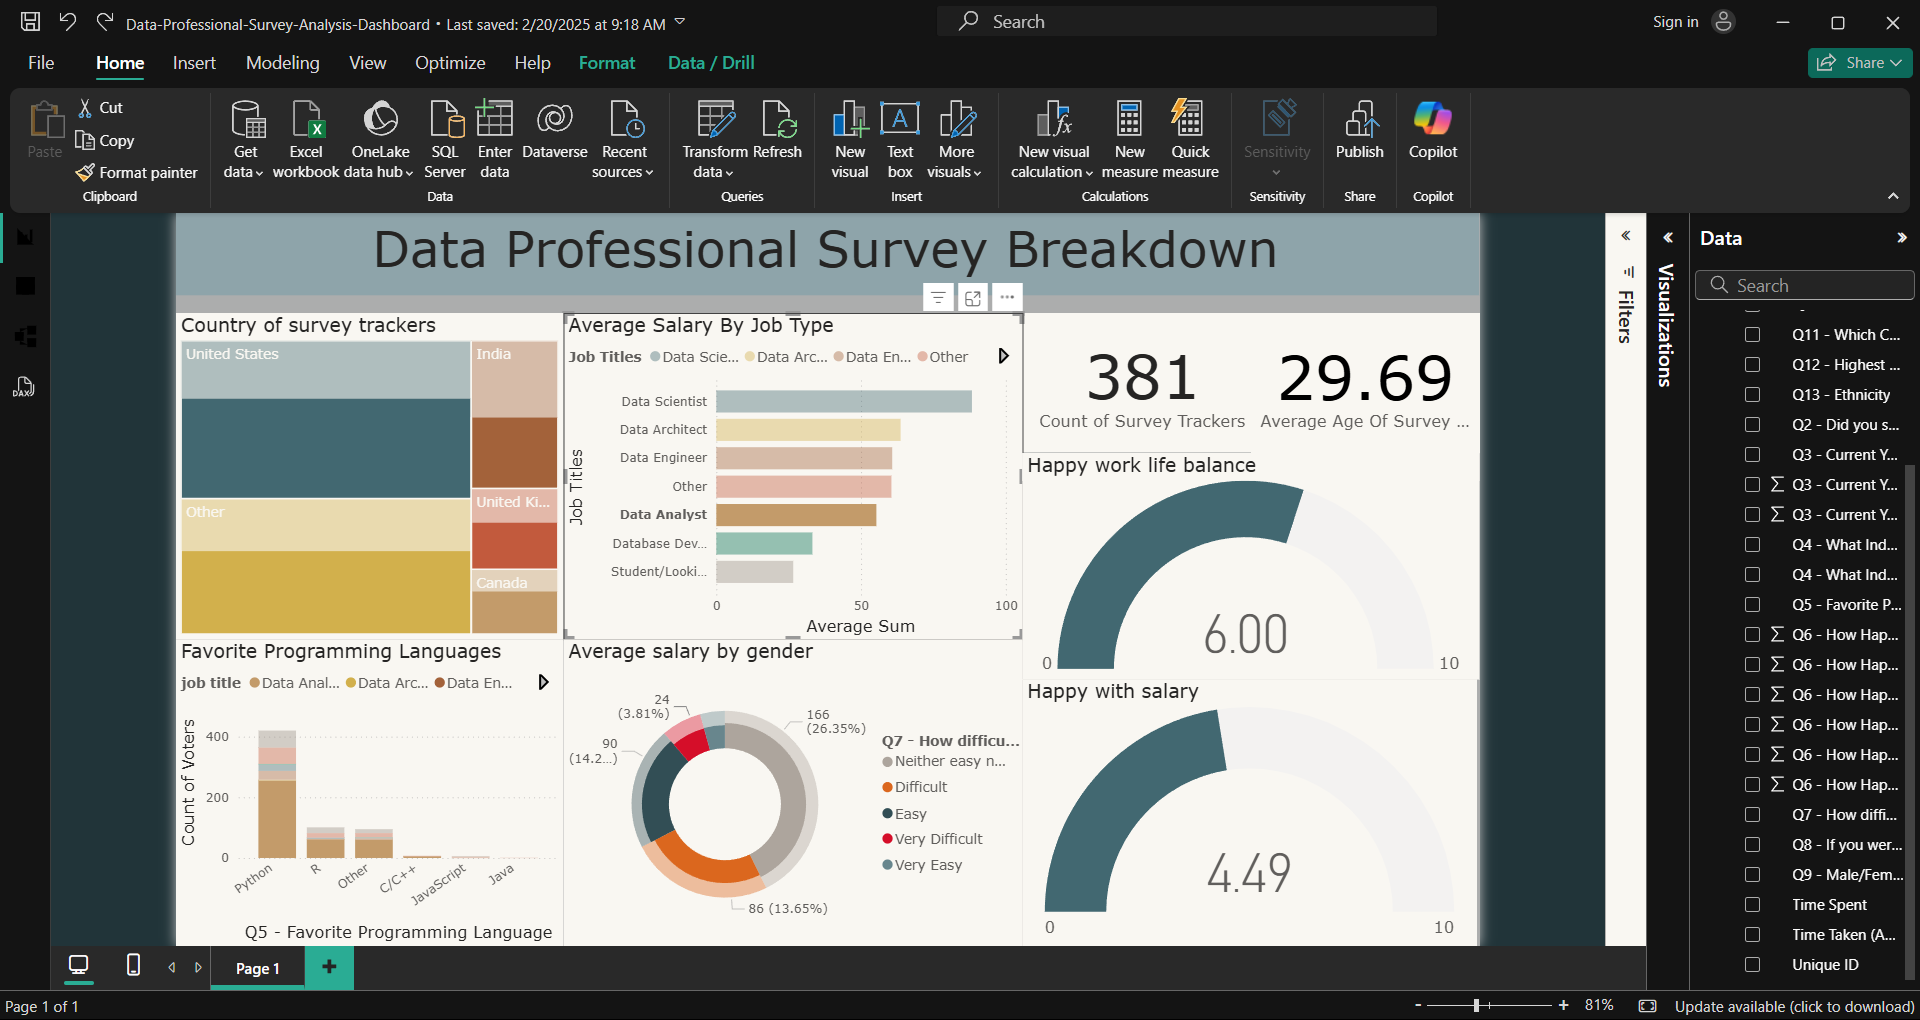

This screenshot's page, from the dashboard's own definition file:
{"tool":"powerbi","page":{"name":"Page 1","canvas":[1280,720],"ordinal":0},"visuals":[{"type":"textbox","box":[0,0,1279.4,80.5],"z":0},{"type":"card","fields":{"Values":["CountNonNull(Data Professional Survey.Unique ID)"]},"box":[831,98.3,236.4,136.8],"z":1000},{"type":"card","fields":{"Values":["Avg(Data Professional Survey.Q10 - Current Age)"]},"box":[1055.2,98.2,224.5,137.4],"z":2000},{"type":"barChart","title":"Average Salary By Job Type","fields":{"Category":["Data Professional Survey.Q1 - Which Title Best Fits your Current Role?.1"],"Y":["Avg(Data Professional Survey.Average Salary)"],"Series":["Data Professional Survey.Q1 - Which Title Best Fits your Current Role?.1"]},"box":[380.8,98.4,451.3,320.9],"z":3000},{"type":"columnChart","title":"Favorite Programming Languages","fields":{"Category":["Data Professional Survey.Q5 - Favorite Programming Language.1"],"Y":["CountNonNull(Data Professional Survey.Unique ID)"],"Series":["Data Professional Survey.Q1 - Which Title Best Fits your Current Role?.1"]},"box":[0,418.4,380.4,301.8],"z":4000},{"type":"treemap","title":"Country of survey trackers","fields":{"Group":["Data Professional Survey.Q11 - Which Country do you live in?.1"],"Values":["CountNonNull(Data Professional Survey.Q11 - Which Country do you live in?.1)"]},"box":[0,97.6,380.2,320.3],"z":5000},{"type":"gauge","title":"Happy work life balance","fields":{"Y":["Avg(Data Professional Survey.Q6 - How Happy are you in your Current Position with the following? (Work/Life Balance))"],"MinValue":["Min(Data Professional Survey.Q6 - How Happy are you in your Current Position with the following? (Work/Life Balance))1"],"MaxValue":["Max(Data Professional Survey.Q6 - How Happy are you in your Current Position with the following? (Work/Life Balance))2"]},"box":[830.7,235.6,449.1,222.1],"z":6000},{"type":"gauge","title":"Happy with salary","fields":{"Y":["Avg(Data Professional Survey.Q6 - How Happy are you in your Current Position with the following? (Salary))"],"MinValue":["Min(Data Professional Survey.Q6 - How Happy are you in your Current Position with the following? (Salary))1"],"MaxValue":["Max(Data Professional Survey.Q6 - How Happy are you in your Current Position with the following? (Salary))2"]},"box":[830.7,457.7,446.6,262.6],"z":7000},{"type":"donutChart","title":"Average salary by gender","fields":{"Category":["Data Professional Survey.Q7 - How difficult was it for you to break into Data?"],"Y":["CountNonNull(Data Professional Survey.Q7 - How difficult was it for you to break into Data?)"]},"box":[380.4,418.4,450.3,301.8],"z":8000}]}

Visuals, with their boxes on the page's 1280x720 design canvas (x1, y1, x2, y2). These are canvas units, not pixel positions in the 1920x1020 screenshot, which may show the page scaled, cropped or inside an application window:
textbox: x1=0 y1=0 x2=1279 y2=80
card - CountNonNull(Data Professional Survey.Unique ID): x1=831 y1=98 x2=1067 y2=235
card - Avg(Data Professional Survey.Q10 - Current Age): x1=1055 y1=98 x2=1280 y2=236
"Average Salary By Job Type" barChart: x1=381 y1=98 x2=832 y2=419
"Favorite Programming Languages" columnChart: x1=0 y1=418 x2=380 y2=720
"Country of survey trackers" treemap: x1=0 y1=98 x2=380 y2=418
"Happy work life balance" gauge: x1=831 y1=236 x2=1280 y2=458
"Happy with salary" gauge: x1=831 y1=458 x2=1277 y2=720
"Average salary by gender" donutChart: x1=380 y1=418 x2=831 y2=720
